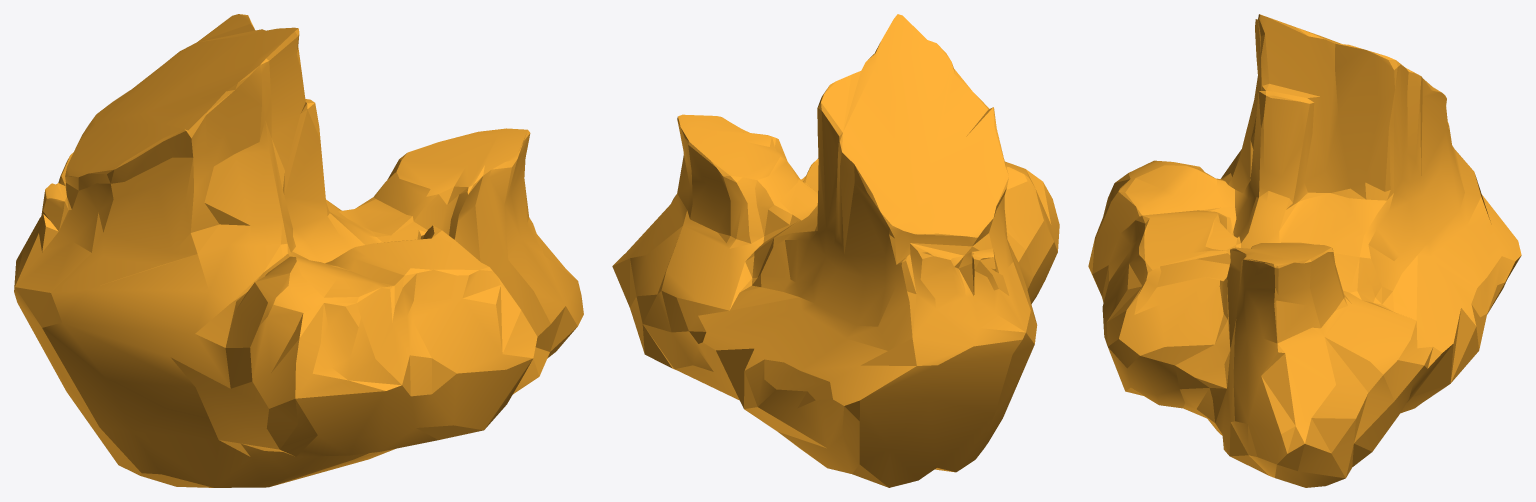
The model's file is SM_Iceberg_Medium_F.fbx.
3 views of the same model, side by side, from view 1: azimuth 30°, elevation 25°; view 2: azimuth 150°, elevation 25°; view 3: azimuth 270°, elevation 25° (orthographic). The views are drawn at different scales.
Visible parts, largest first — view 1: iceberg-medium-f; view 2: iceberg-medium-f; view 3: iceberg-medium-f.
Part boxes in pixels (x1,y1,x2,y2): iceberg-medium-f: (14, 14, 583, 487); iceberg-medium-f: (612, 14, 1059, 487); iceberg-medium-f: (1088, 14, 1521, 487).
Bounding box in the file's own units: 22.15 × 18.71 × 18.34.
